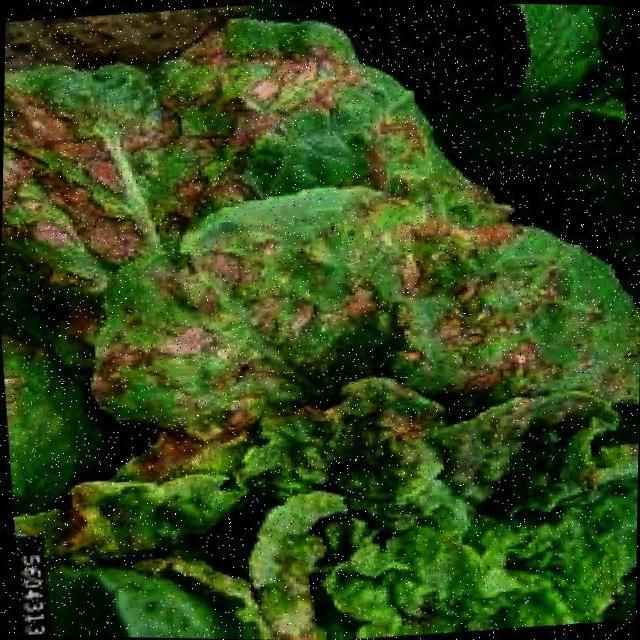Lettuce Mosaic Virus: (16, 107, 468, 599)
